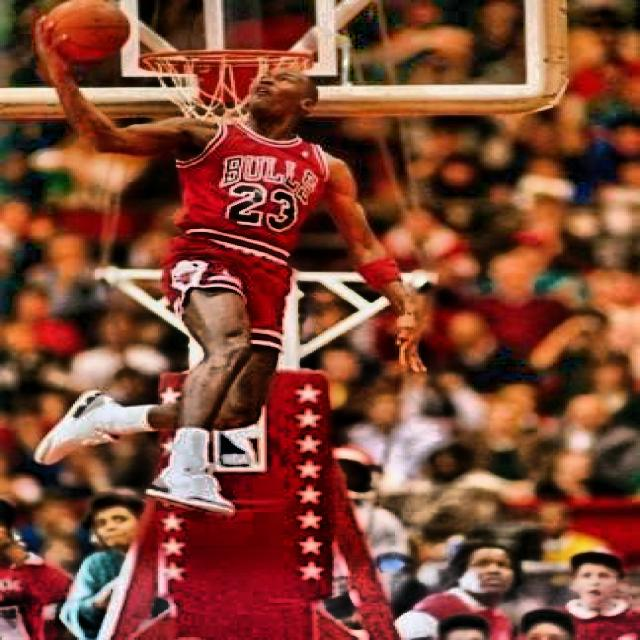board: (40, 0, 130, 61)
